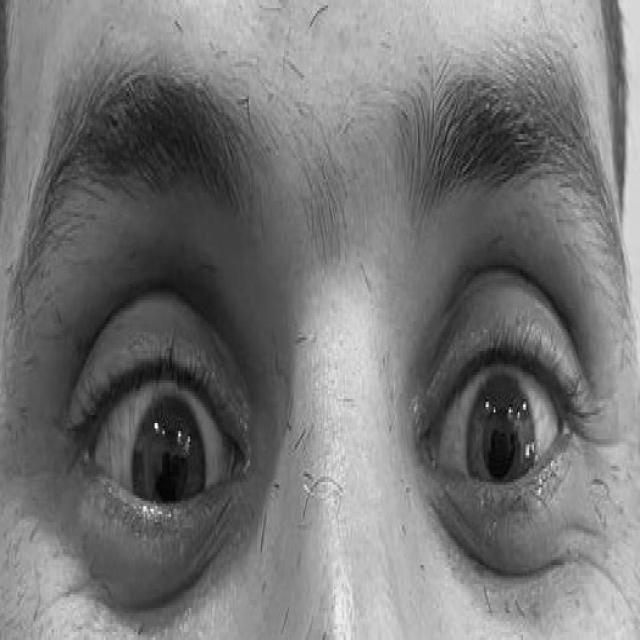real: (14, 182, 620, 583)
